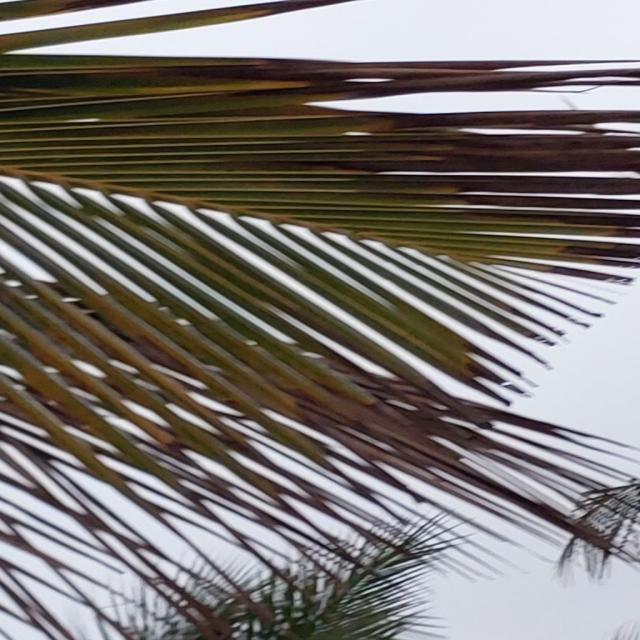gray leaf spot: (1, 59, 640, 640)
